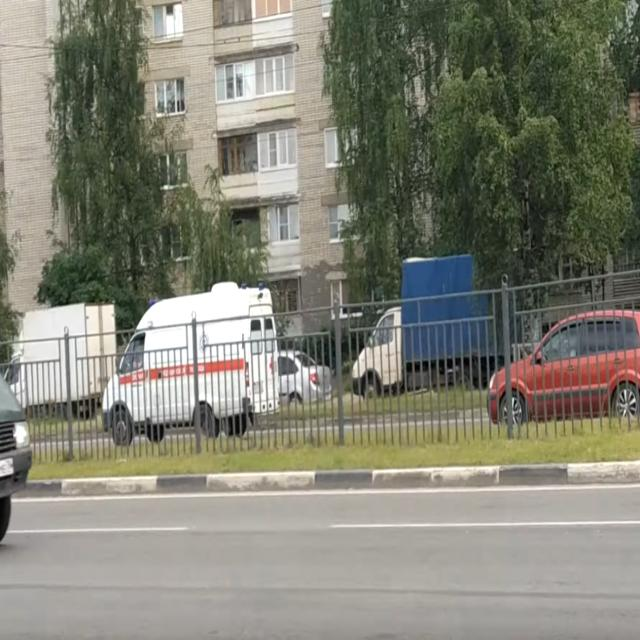ambulance: (104, 281, 280, 446)
non emergency car: (353, 255, 520, 399), (486, 308, 640, 426), (4, 303, 119, 422), (1, 368, 33, 547), (280, 348, 334, 409)
